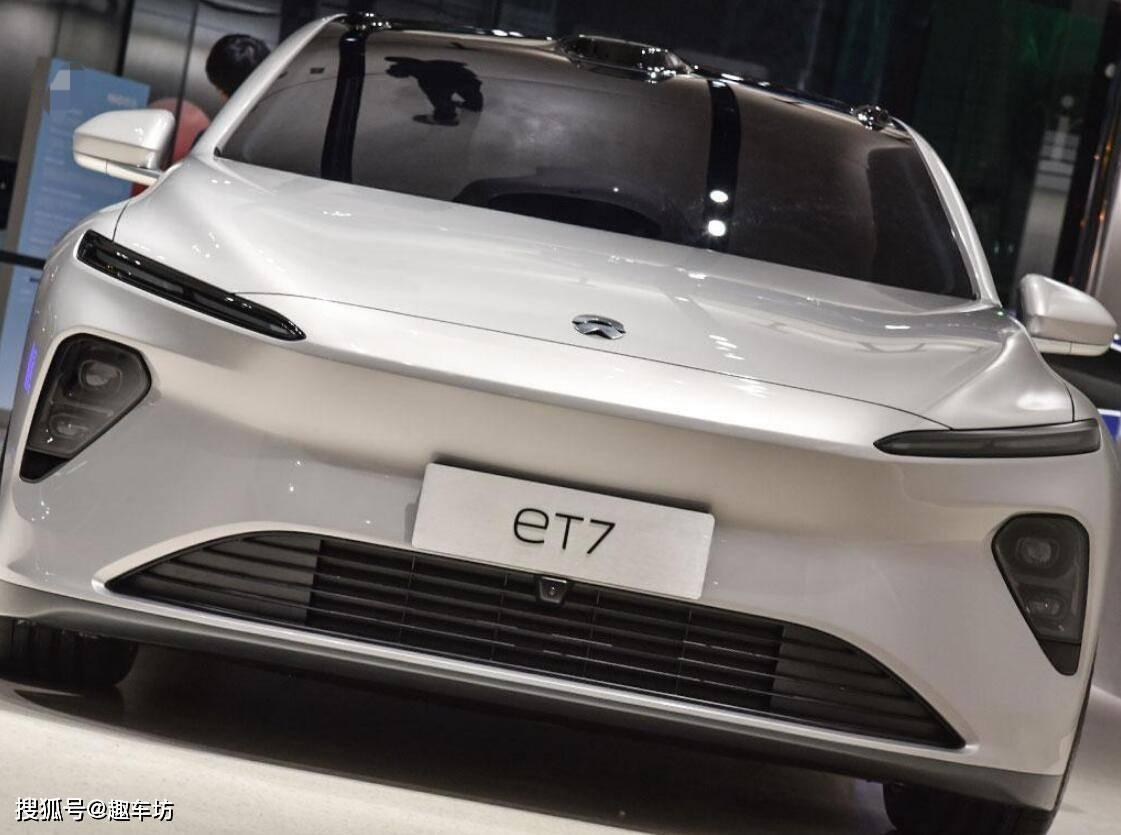NIO: (571, 311, 626, 341)
